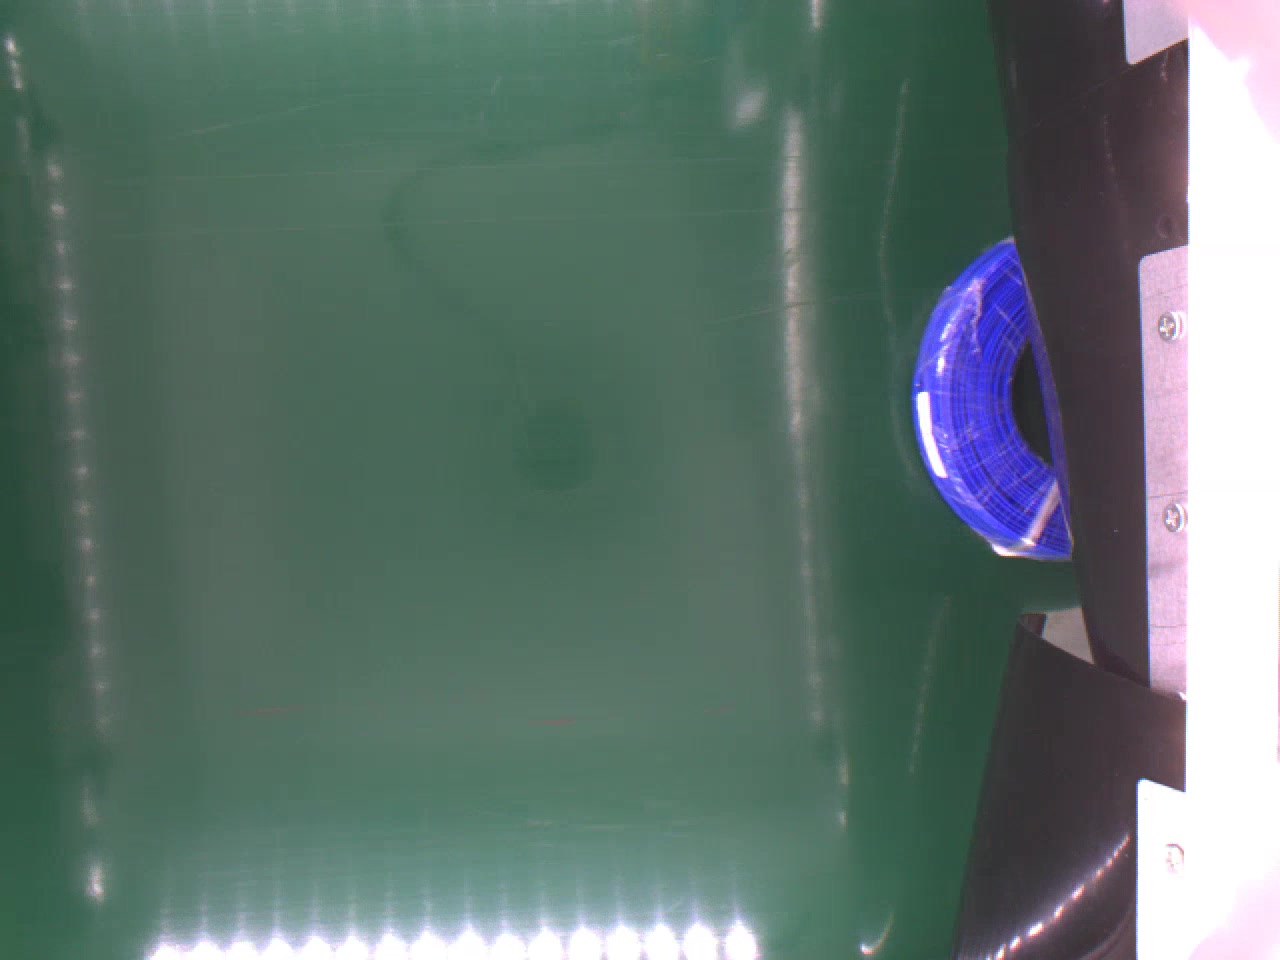blue: (909, 233, 1070, 566)
